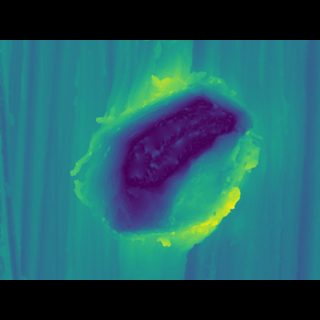Loch: (65, 89, 270, 231)
